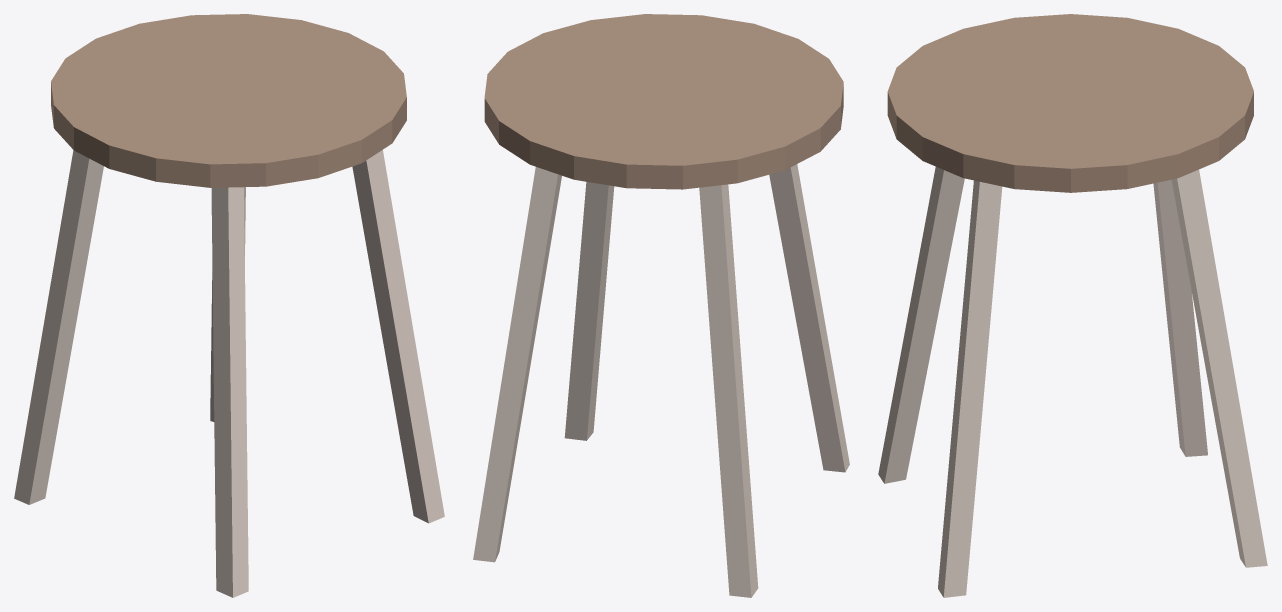
The model's file is Stool_2.fbx.
3 views of the same model, side by side, from view 1: azimuth 30°, elevation 25°; view 2: azimuth 150°, elevation 25°; view 3: azimuth 270°, elevation 25° (orthographic). The views are drawn at different scales.
Visible parts, largest first — view 1: Stool_2; view 2: Stool_2; view 3: Stool_2.
Part boxes in pixels (x1,y1,x2,y2): Stool_2: [14, 14, 444, 597]; Stool_2: [473, 14, 849, 597]; Stool_2: [878, 14, 1267, 597].
Bounding box in the file's own units: 70.68 × 75.13 × 91.46.
